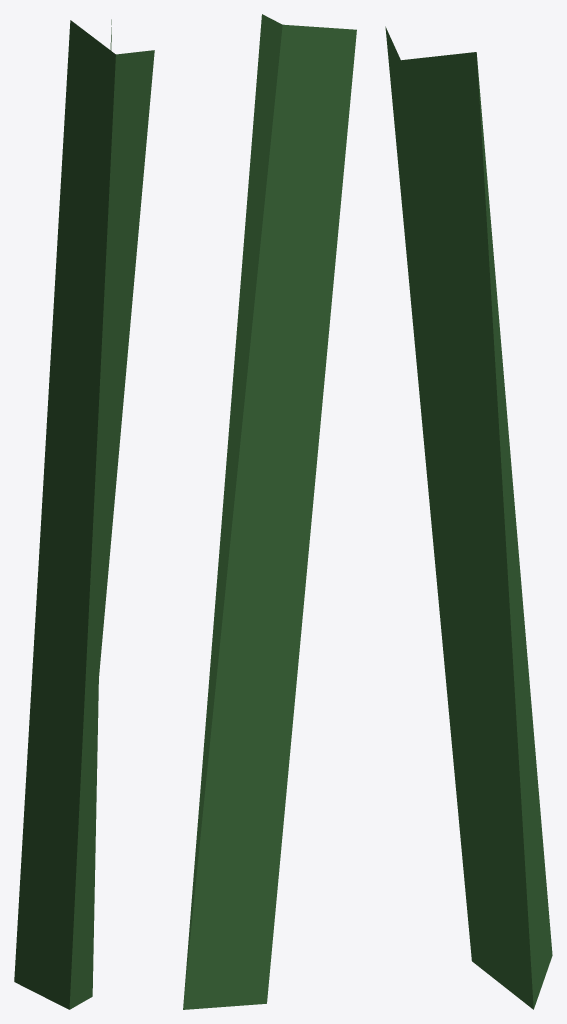
Rendered from stem_1_3.glb.
The picture shows the model from 3 angles, left to right: view 1: azimuth 90°, elevation 25°; view 2: azimuth 150°, elevation 25°; view 3: azimuth 330°, elevation 25°; orthographic projection. The views are drawn at different scales.
Parts seen in each view (by area): view 1: Icosphere; view 2: Icosphere; view 3: Icosphere.
Part boxes in pixels (box(x1,y1,x2,y2)): Icosphere: box(14, 19, 154, 1009); Icosphere: box(183, 14, 356, 1009); Icosphere: box(385, 26, 552, 1009).
Bounding box in the file's own units: 0.0313 × 0.2105 × 0.0262.
Materials: 1 (1 with a texture image).
